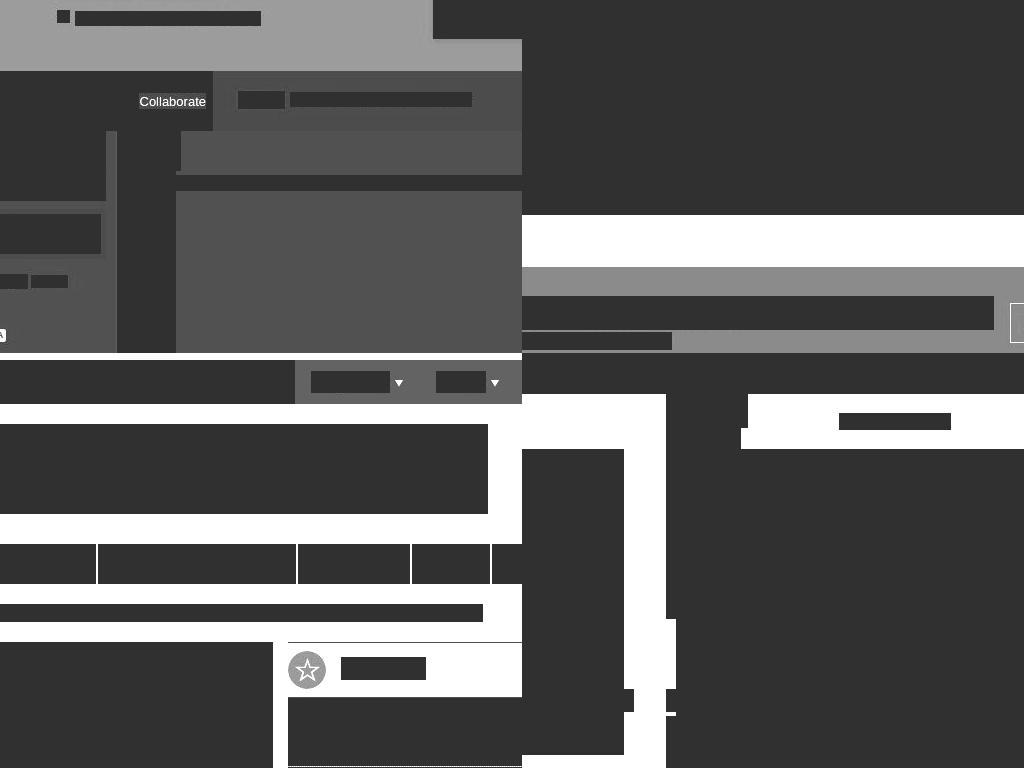button: (676, 449, 1024, 768), (522, 0, 1024, 215), (522, 449, 624, 768), (288, 698, 522, 766), (650, 353, 890, 394), (666, 689, 1024, 712), (98, 544, 296, 584), (666, 716, 833, 756), (108, 71, 213, 131), (155, 360, 295, 404), (890, 353, 1024, 394), (666, 353, 795, 389), (298, 544, 410, 584), (39, 71, 108, 131), (63, 360, 155, 404), (0, 544, 96, 584), (433, 0, 522, 39), (666, 388, 748, 428), (666, 541, 747, 580), (412, 544, 490, 584), (666, 503, 746, 542), (666, 427, 741, 466), (0, 360, 63, 404), (522, 689, 634, 712), (117, 131, 181, 171), (0, 71, 39, 131), (666, 465, 718, 504), (666, 579, 710, 619), (666, 755, 767, 768), (492, 544, 522, 584), (31, 275, 68, 288)
field: (0, 214, 101, 254), (0, 167, 106, 201)
heading: (522, 296, 994, 330), (288, 706, 522, 758), (0, 131, 106, 167), (341, 657, 426, 680), (839, 413, 951, 430)
iframe: (0, 424, 488, 514)
image: (676, 449, 1024, 727), (522, 449, 624, 727), (117, 171, 176, 353), (45, 93, 70, 109), (114, 93, 139, 109), (57, 10, 70, 23), (0, 93, 7, 109), (162, 147, 171, 155)
link: (676, 739, 1024, 756), (75, 11, 261, 26), (522, 739, 624, 756), (414, 604, 483, 622), (456, 17, 522, 29)
text: (0, 604, 414, 622), (175, 175, 522, 191), (650, 359, 890, 379), (676, 755, 1024, 768), (290, 92, 472, 107), (522, 332, 672, 350), (890, 359, 1024, 379), (522, 359, 650, 379), (311, 371, 390, 393), (436, 371, 486, 393), (139, 93, 206, 109), (238, 91, 285, 109), (133, 175, 167, 192), (70, 93, 101, 109), (127, 144, 160, 158), (0, 274, 28, 289), (8, 93, 32, 109)
